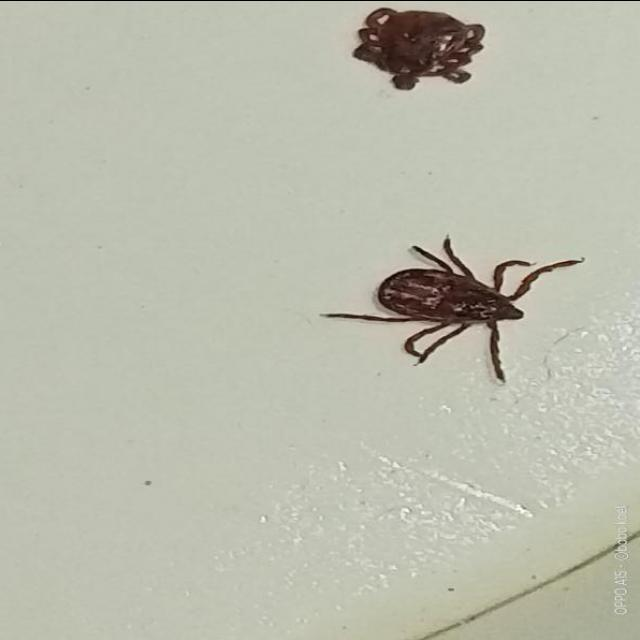Rhipicephalus Sanguineus-M: (319, 237, 586, 384), (352, 6, 487, 90)
